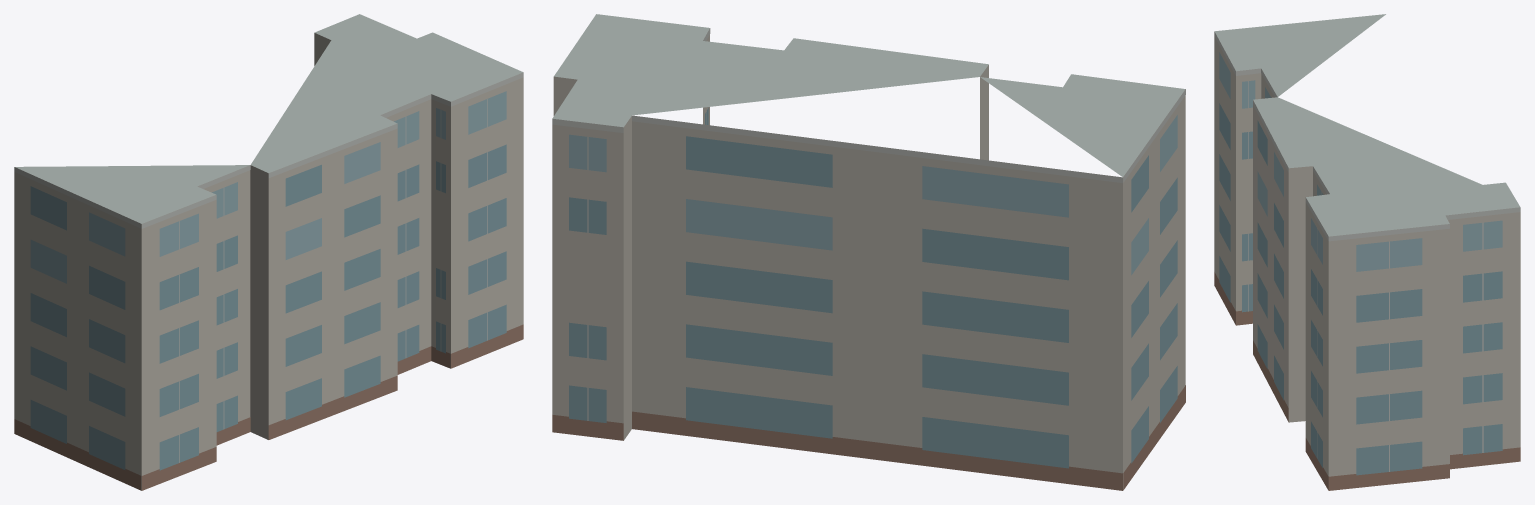
File: survey-upis-32842100.glb
The picture shows the model from 3 angles, left to right: view 1: azimuth 30°, elevation 25°; view 2: azimuth 150°, elevation 25°; view 3: azimuth 270°, elevation 25°; orthographic projection. The views are drawn at different scales.
Parts seen in each view (by area): view 1: survey-upis-32842100.tmp; view 2: survey-upis-32842100.tmp; view 3: survey-upis-32842100.tmp.
Part boxes in pixels (x1,y1,x2,y2): survey-upis-32842100.tmp: (14,14,523,490); survey-upis-32842100.tmp: (552,14,1185,490); survey-upis-32842100.tmp: (1214,14,1520,490).
Bounding box in the file's own units: 24.41 × 13 × 14.19.
